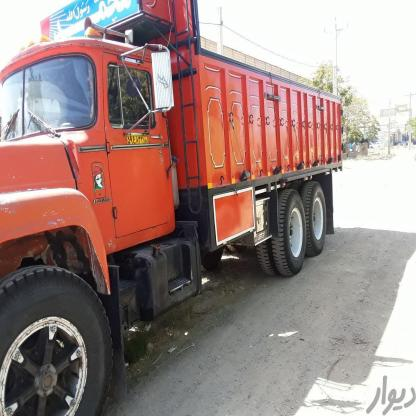Truck: (0, 0, 345, 416)
